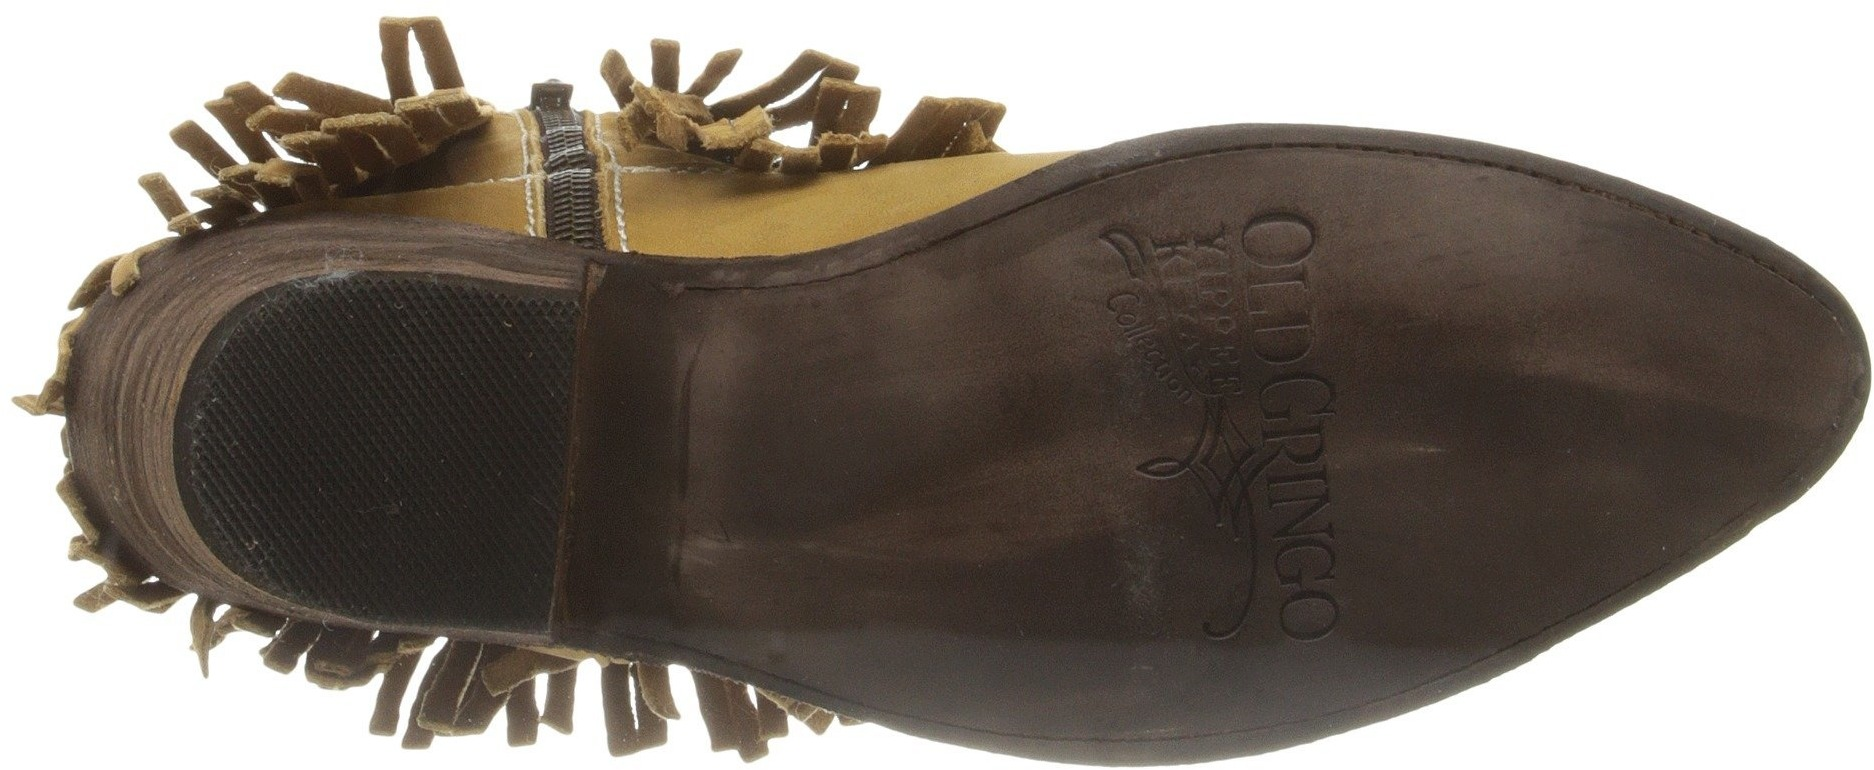circle: (1227, 200, 1334, 275), (1266, 576, 1351, 658)
other: (742, 300, 1088, 618), (1384, 253, 1667, 531), (257, 319, 534, 573)
text: (986, 181, 1464, 679), (1107, 380, 1371, 647), (1090, 179, 1342, 381), (1182, 204, 1359, 378), (1218, 490, 1386, 653), (1237, 368, 1368, 488)
